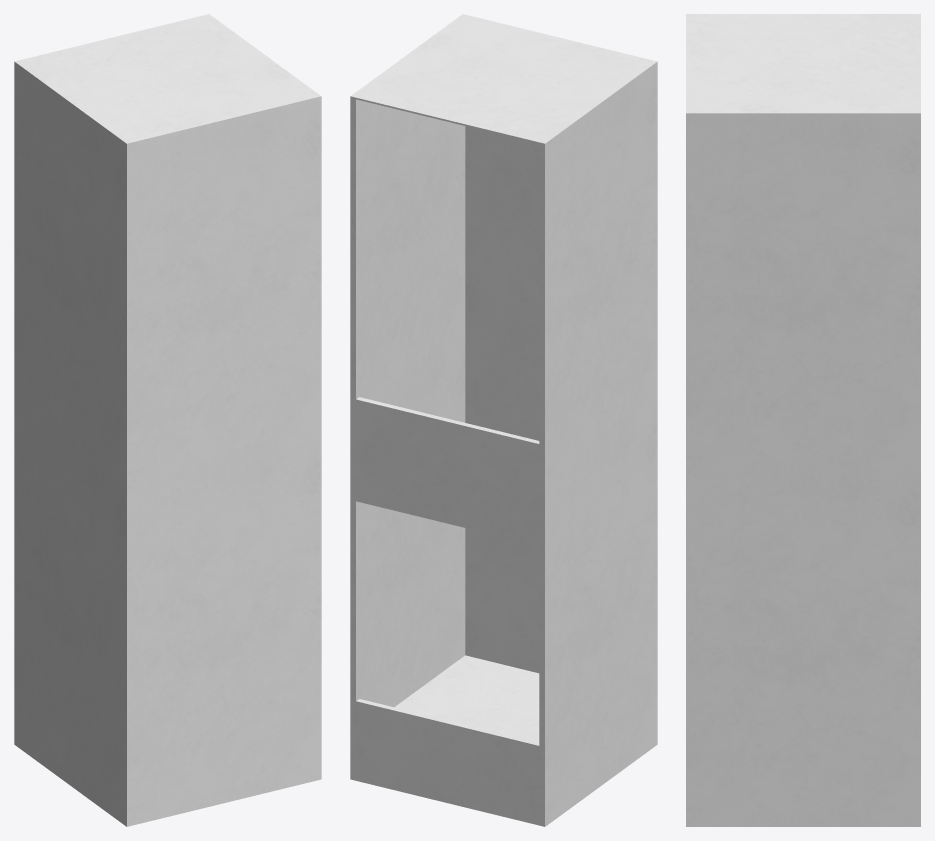
File: Lift_Enclosure_Mrt.fbx
The picture shows the model from 3 angles, left to right: view 1: azimuth 30°, elevation 25°; view 2: azimuth 150°, elevation 25°; view 3: azimuth 270°, elevation 25°; orthographic projection. The views are drawn at different scales.
Parts seen in each view (by area): view 1: Lift_Enclosure; view 2: Lift_Enclosure; view 3: Lift_Enclosure.
Part boxes in pixels (x1,y1,x2,y2): Lift_Enclosure: [14, 14, 321, 826]; Lift_Enclosure: [350, 14, 657, 826]; Lift_Enclosure: [686, 14, 920, 826].
Bounding box in the file's own units: 301 × 1009 × 301.
